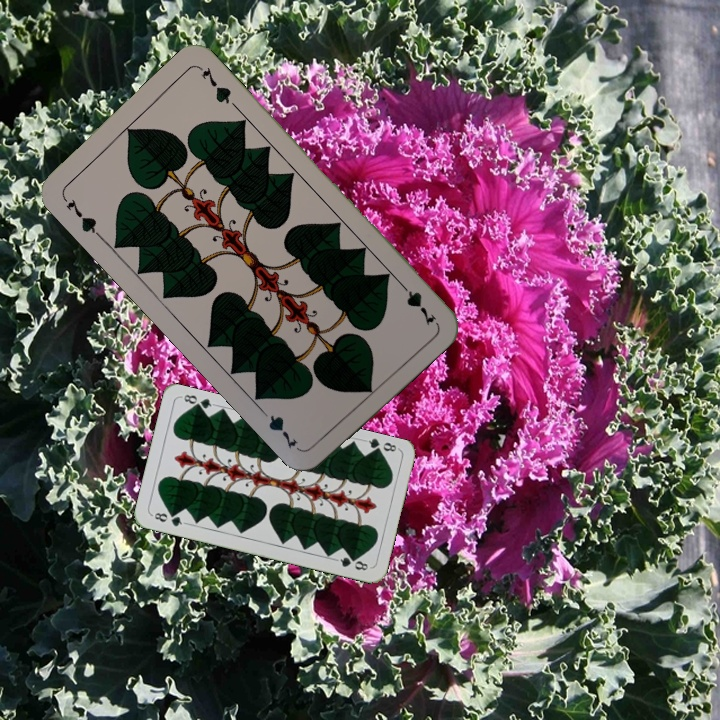G7: (394, 276, 440, 328), (58, 192, 104, 240)
G8: (361, 435, 401, 457), (148, 508, 188, 529)
